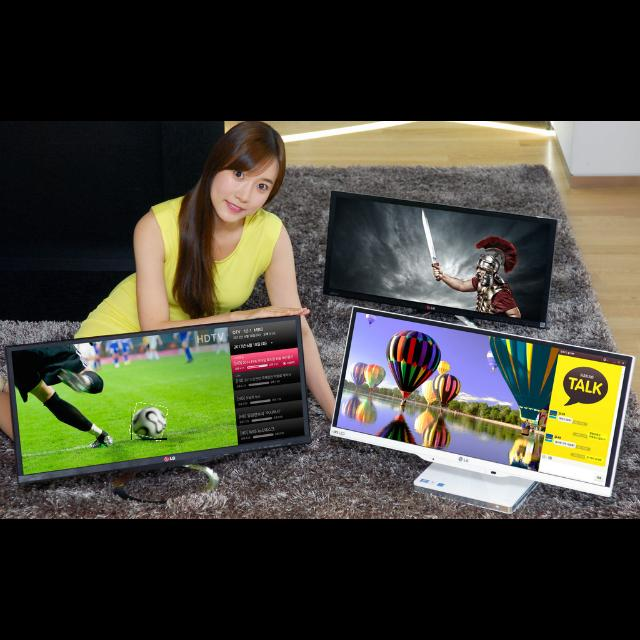Football: (131, 404, 167, 440)
